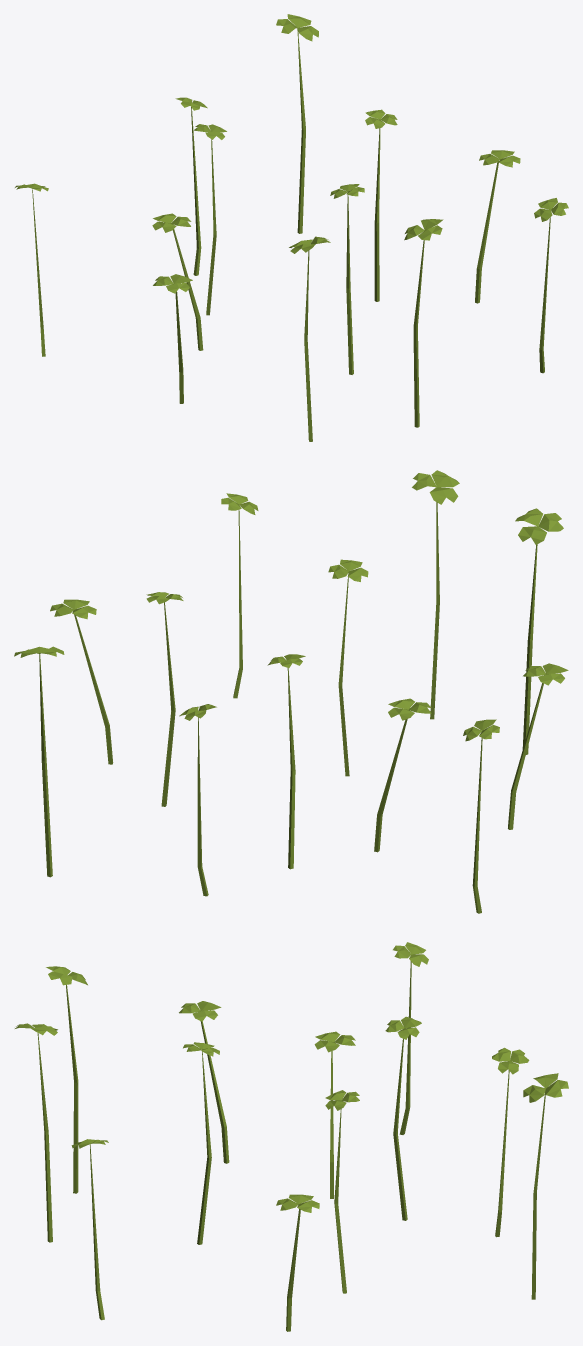
The model's file is Clover_1_2.fbx.
The picture shows the model from 3 angles, top to bottom: view 1: azimuth 30°, elevation 25°; view 2: azimuth 150°, elevation 25°; view 3: azimuth 270°, elevation 25°; orthographic projection. The views are drawn at different scales.
Parts seen in each view (by area): view 1: Clover_1_2; view 2: Clover_1_2; view 3: Clover_1_2.
Part boxes in pixels (x1,y1,x2,y2): Clover_1_2: (15,14,568,441); Clover_1_2: (14,470,568,913); Clover_1_2: (15,942,568,1331).
Bounding box in the file's own units: 0.6048 × 0.268 × 0.6122.
